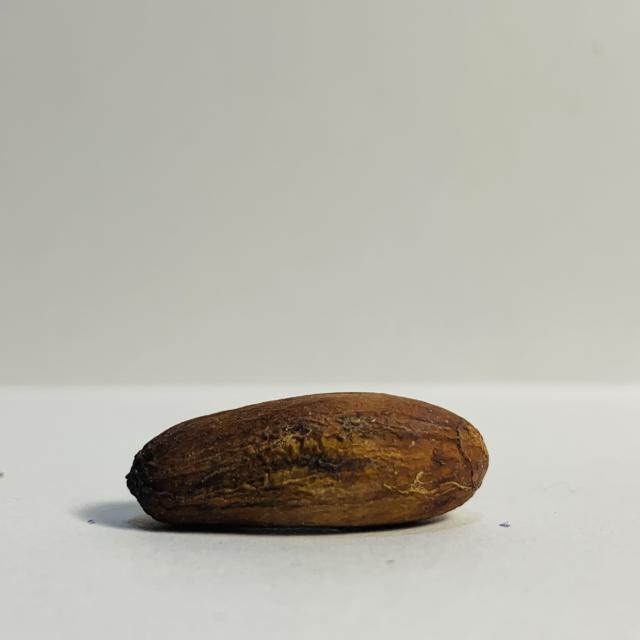Fine_cocoabeans: (41, 383, 542, 547)
